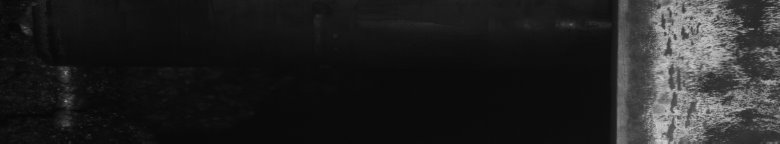kb: (642, 4, 776, 136)
